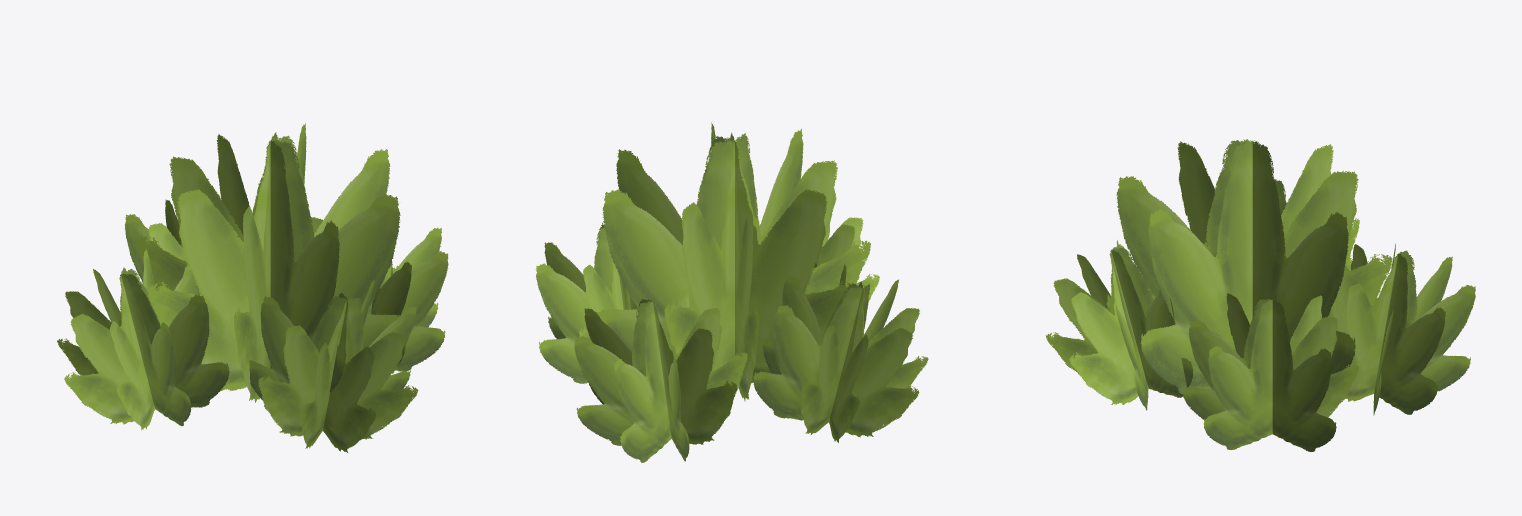
The model's file is grass.fbx.
3 renders of one model, left to right at view 1: azimuth 30°, elevation 25°; view 2: azimuth 150°, elevation 25°; view 3: azimuth 270°, elevation 25°, orthographic.
Parts seen in each view (by area): view 1: grass; view 2: grass; view 3: grass.
Part boxes in pixels (left/top/right/bottom): grass: left=57, top=123, right=448, bottom=452; grass: left=535, top=122, right=928, bottom=462; grass: left=1046, top=139, right=1475, bottom=451.
Bounding box in the file's own units: 298 × 218 × 298.
